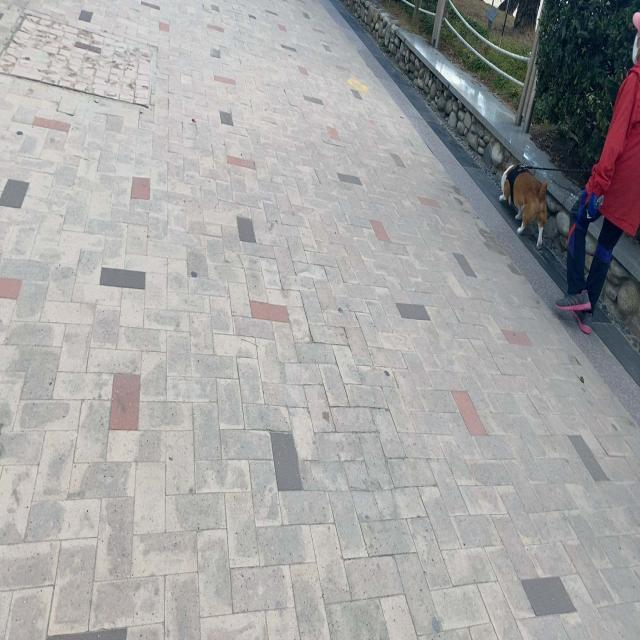Leashed_Dog: (499, 163, 604, 251)
